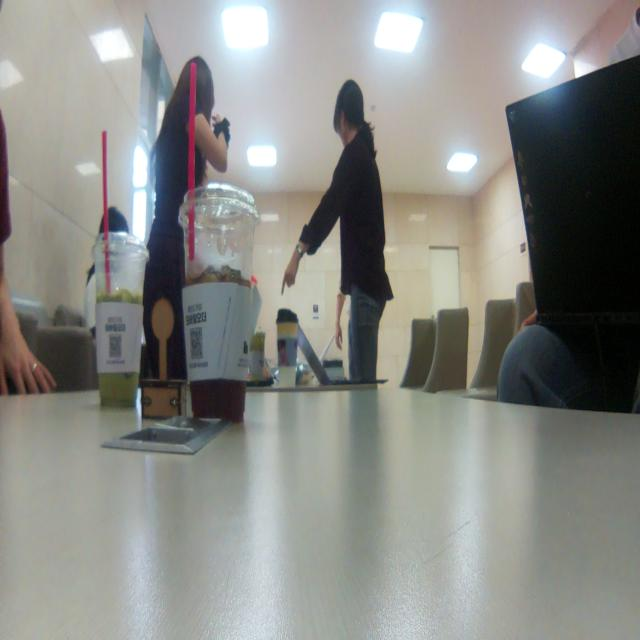target: (141, 298, 187, 420)
